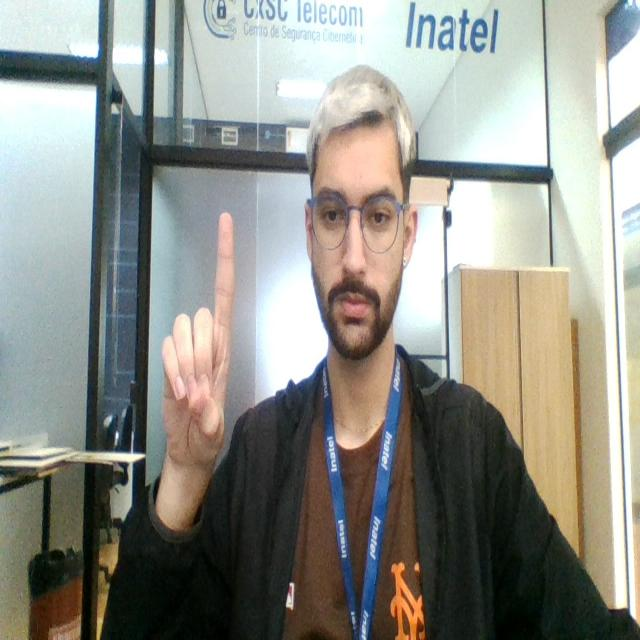D2: (157, 204, 237, 490)
